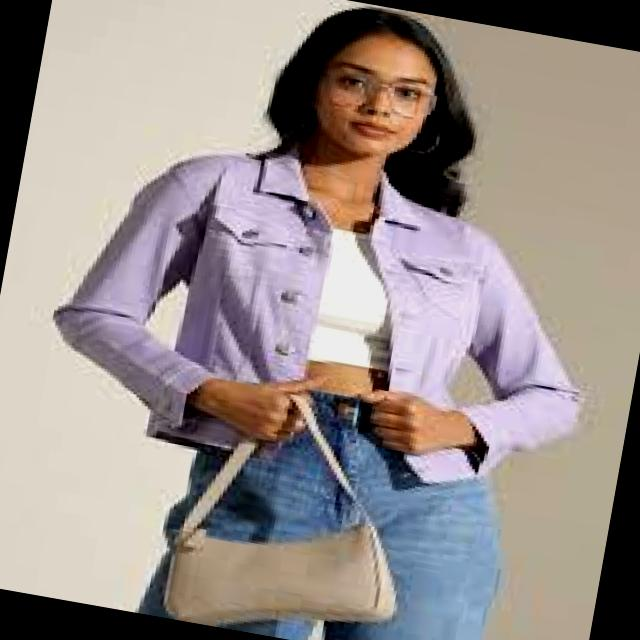face: (310, 35, 436, 162)
lower-wear: (311, 389, 502, 639)
top-wear: (37, 121, 612, 509)
